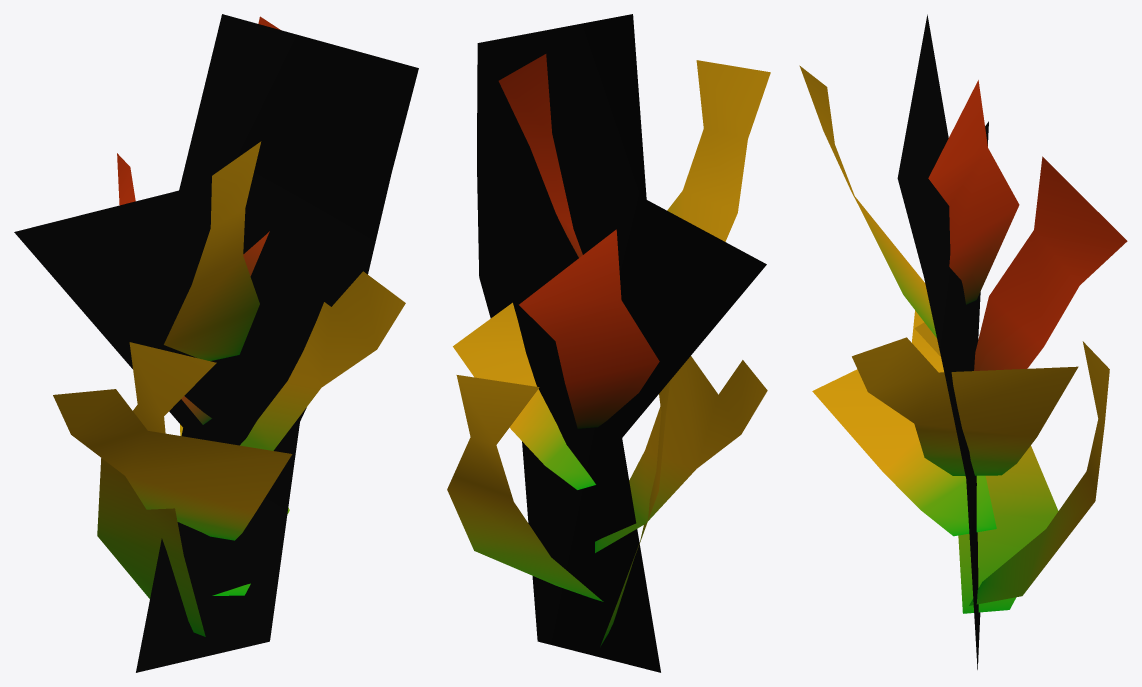
Rendered from Var4Hi29.fbx.
3 views of the same model, side by side, from view 1: azimuth 30°, elevation 25°; view 2: azimuth 150°, elevation 25°; view 3: azimuth 270°, elevation 25° (orthographic). The views are drawn at different scales.
Visible parts, largest first — view 1: bend1; view 2: bend1; view 3: bend1.
Part boxes in pixels (left/top/right/bottom): bend1: left=14, top=14, right=418, bottom=672; bend1: left=447, top=14, right=770, bottom=672; bend1: left=799, top=14, right=1127, bottom=669.
Size of the model in its own units: 1.3 by 2.32 by 1.1.
